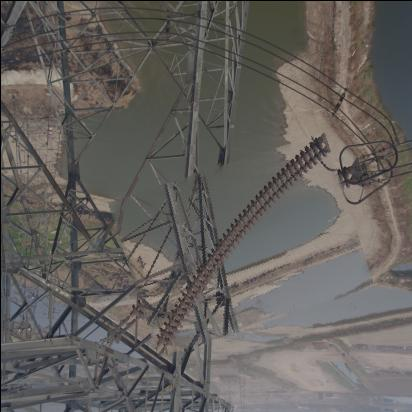insulator: (117, 149, 365, 343)
